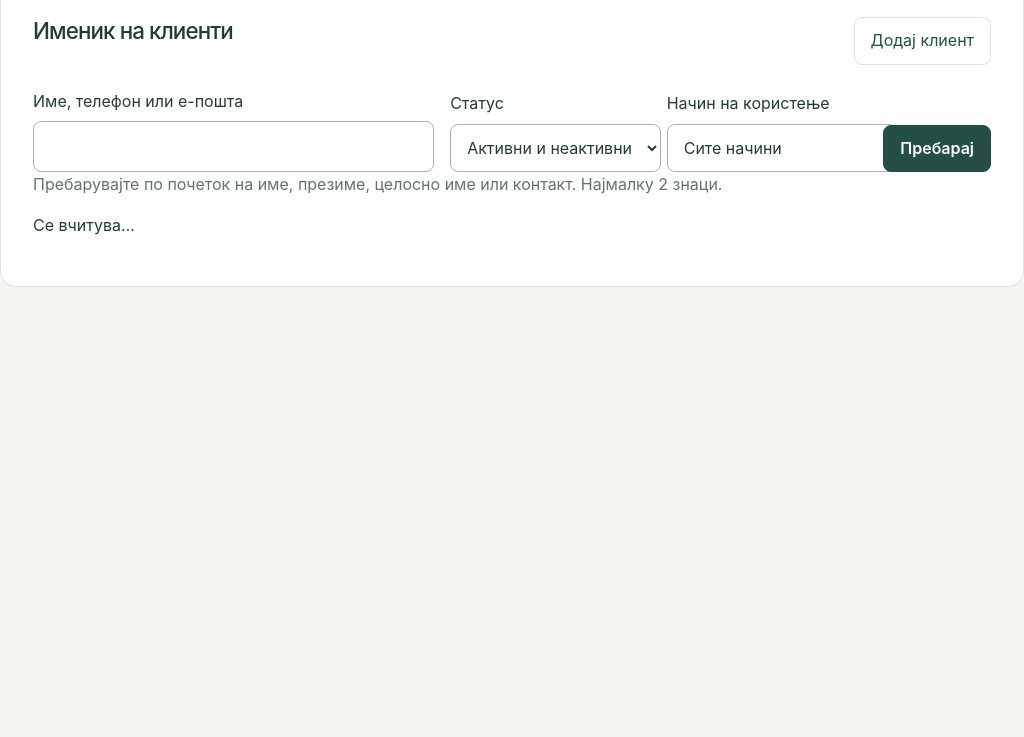
it: creates an offline client with no phone/email and opens the resulting profile
This screenshot has width=1024, height=737.
Click the button "Додај клиент" at [922, 41], box [854, 17, 991, 65]
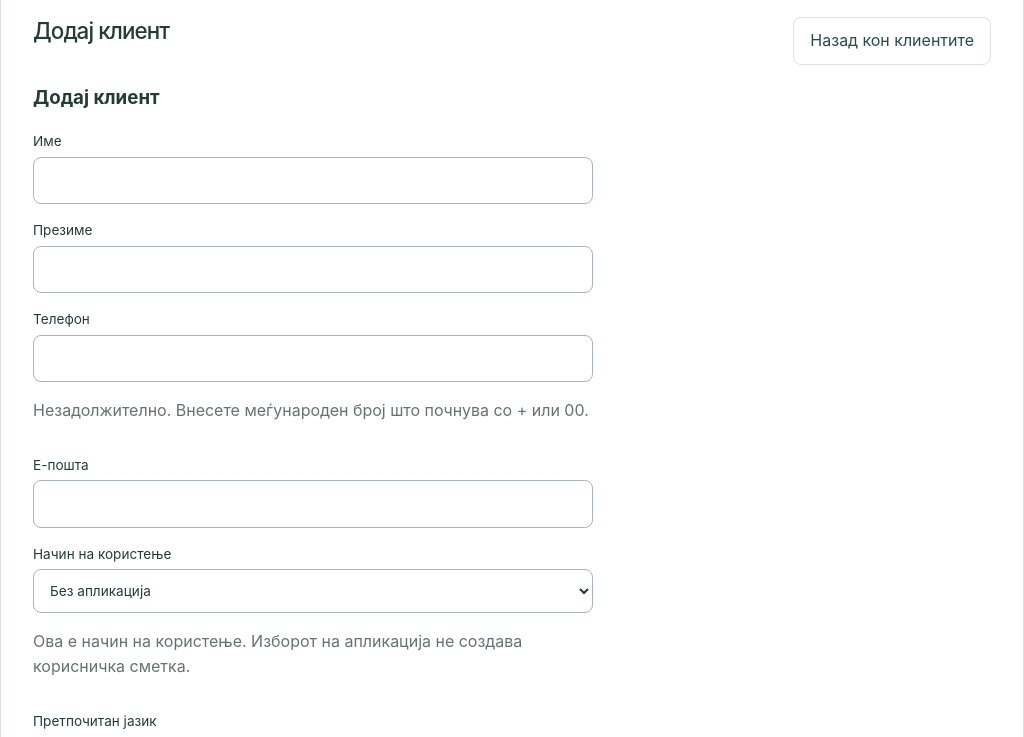
Type "Тест" into the field labelled "Име" at [313, 180], box [33, 157, 593, 204]
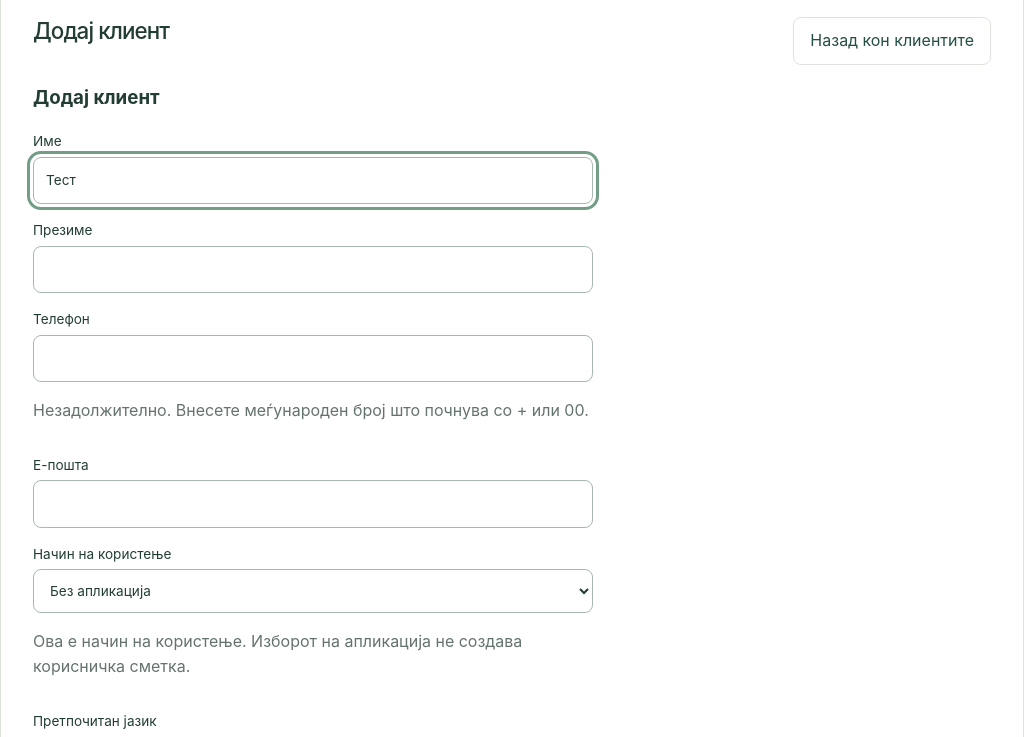
Type "Клиент" into the field labelled "Презиме" at [313, 269], box [33, 246, 593, 293]
(page scrolled)
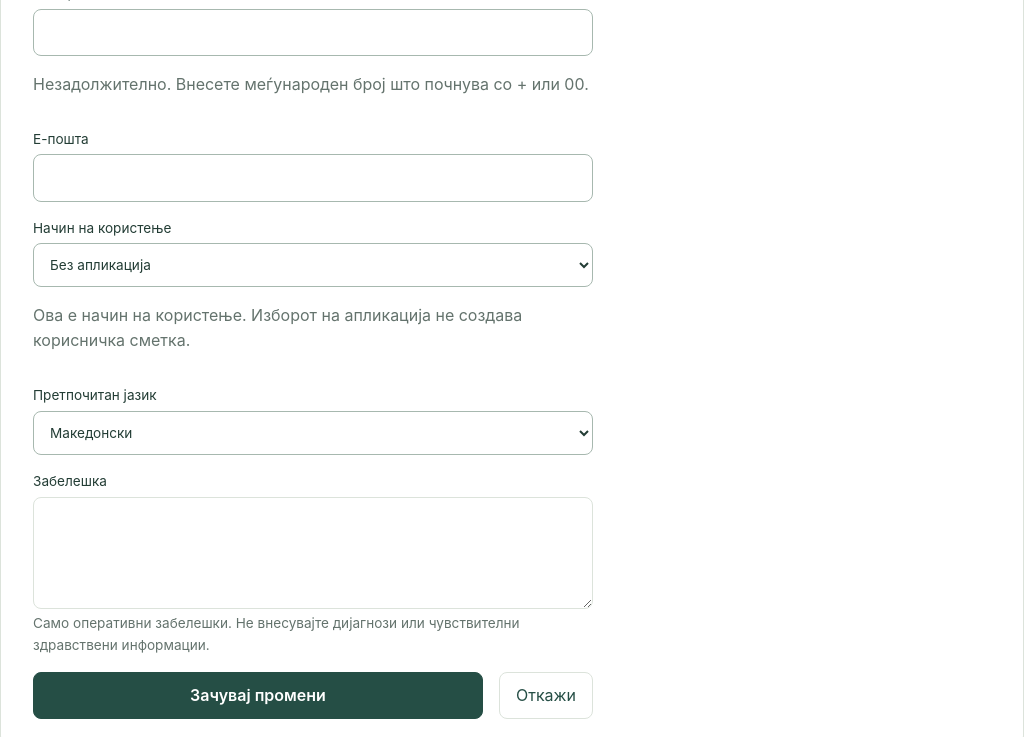
Click the button "Зачувај промени" at [258, 695], box [33, 672, 483, 719]
(page scrolled)
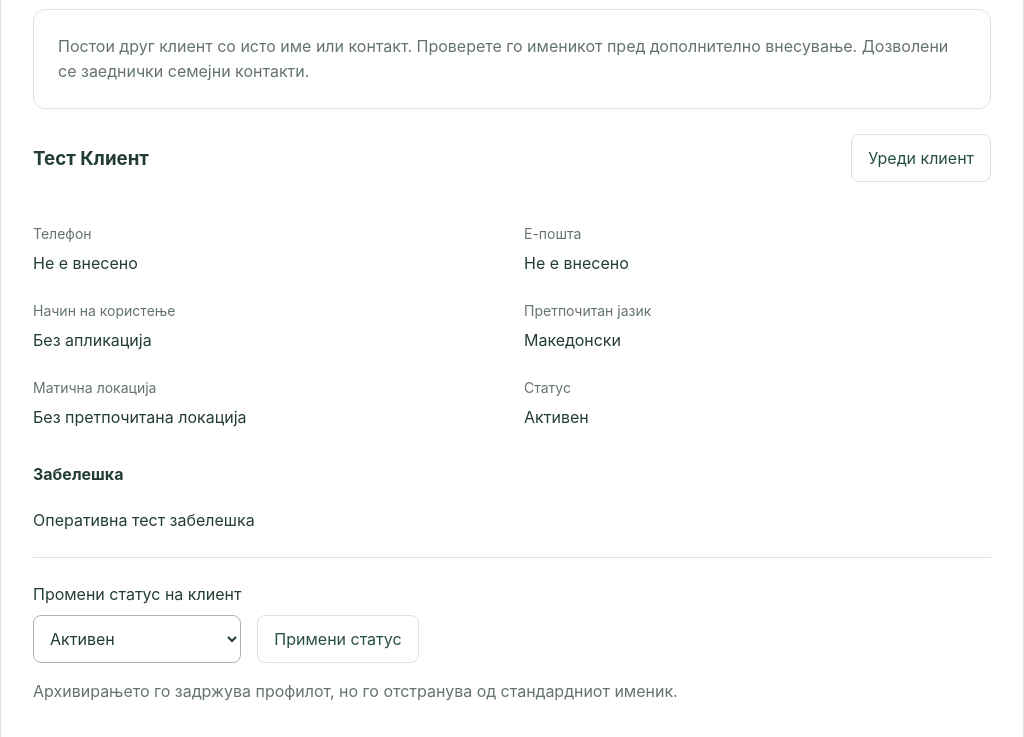
Expected: the text "Постои друг клиент" is shown, [58, 36, 948, 81]
